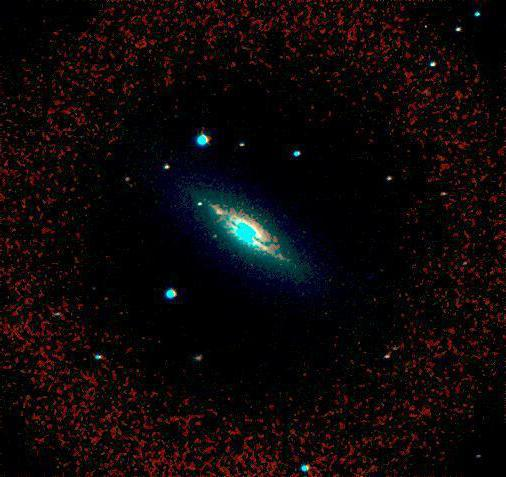star: (182, 189, 212, 219)
